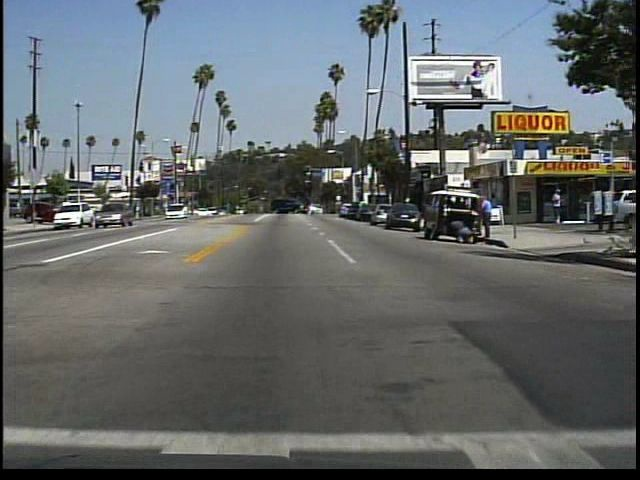person: (479, 190, 498, 241), (448, 217, 473, 246), (550, 186, 566, 228)
